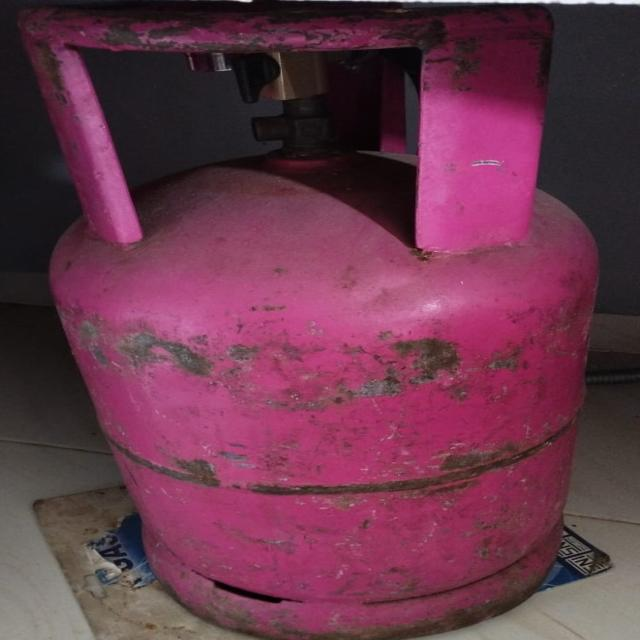Anorganik: (13, 4, 598, 640)
